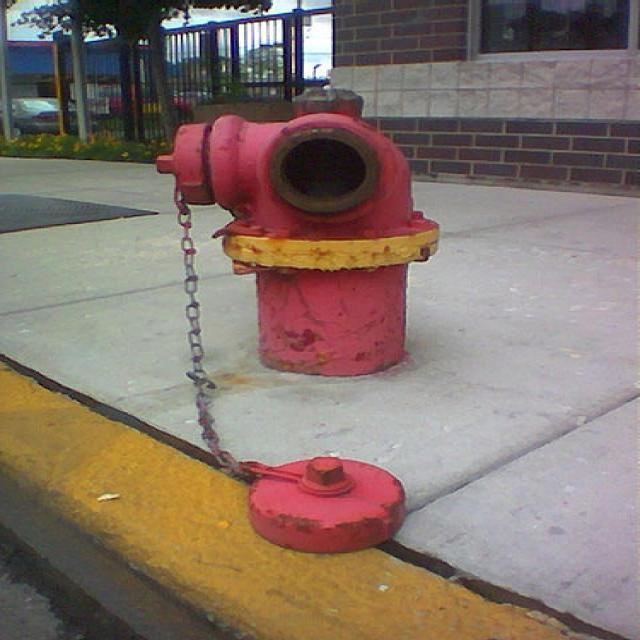fire_hydrant: (142, 73, 442, 566)
